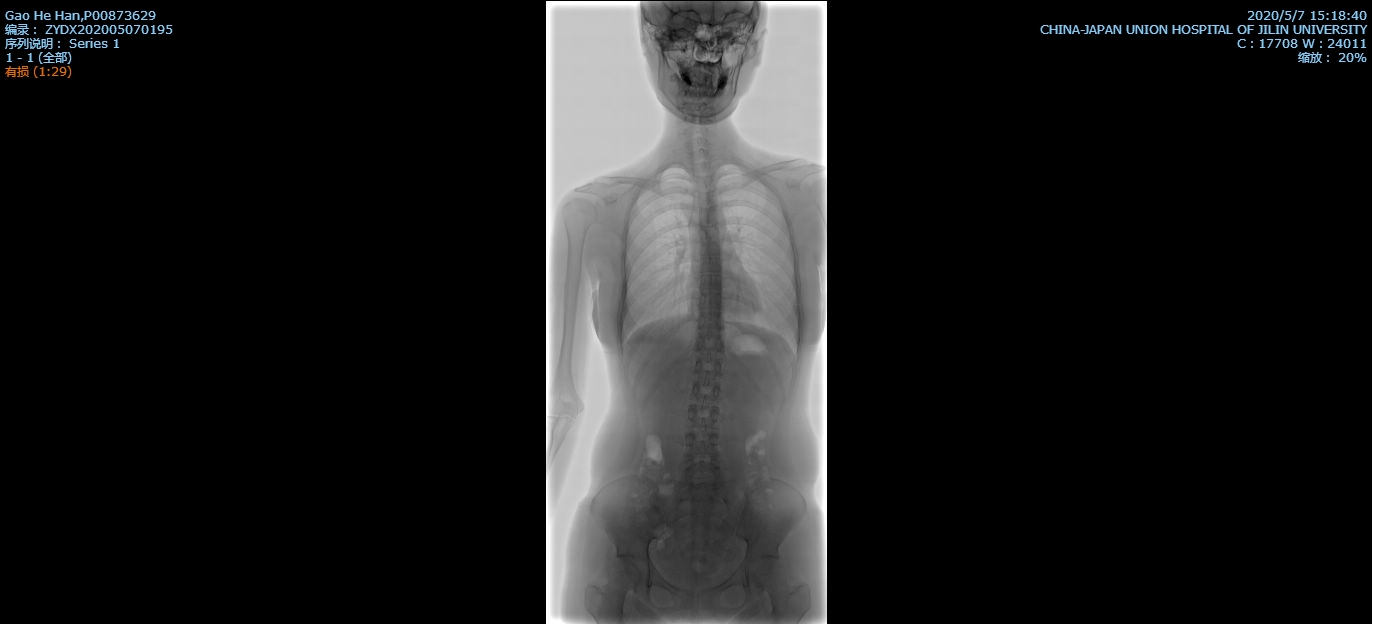Bone: (684, 454, 717, 470), (688, 430, 717, 448), (690, 405, 720, 421), (693, 380, 718, 398), (694, 357, 719, 374), (694, 334, 721, 348), (698, 312, 720, 328), (699, 275, 720, 290), (700, 257, 720, 272), (699, 294, 720, 308), (702, 241, 719, 254)
